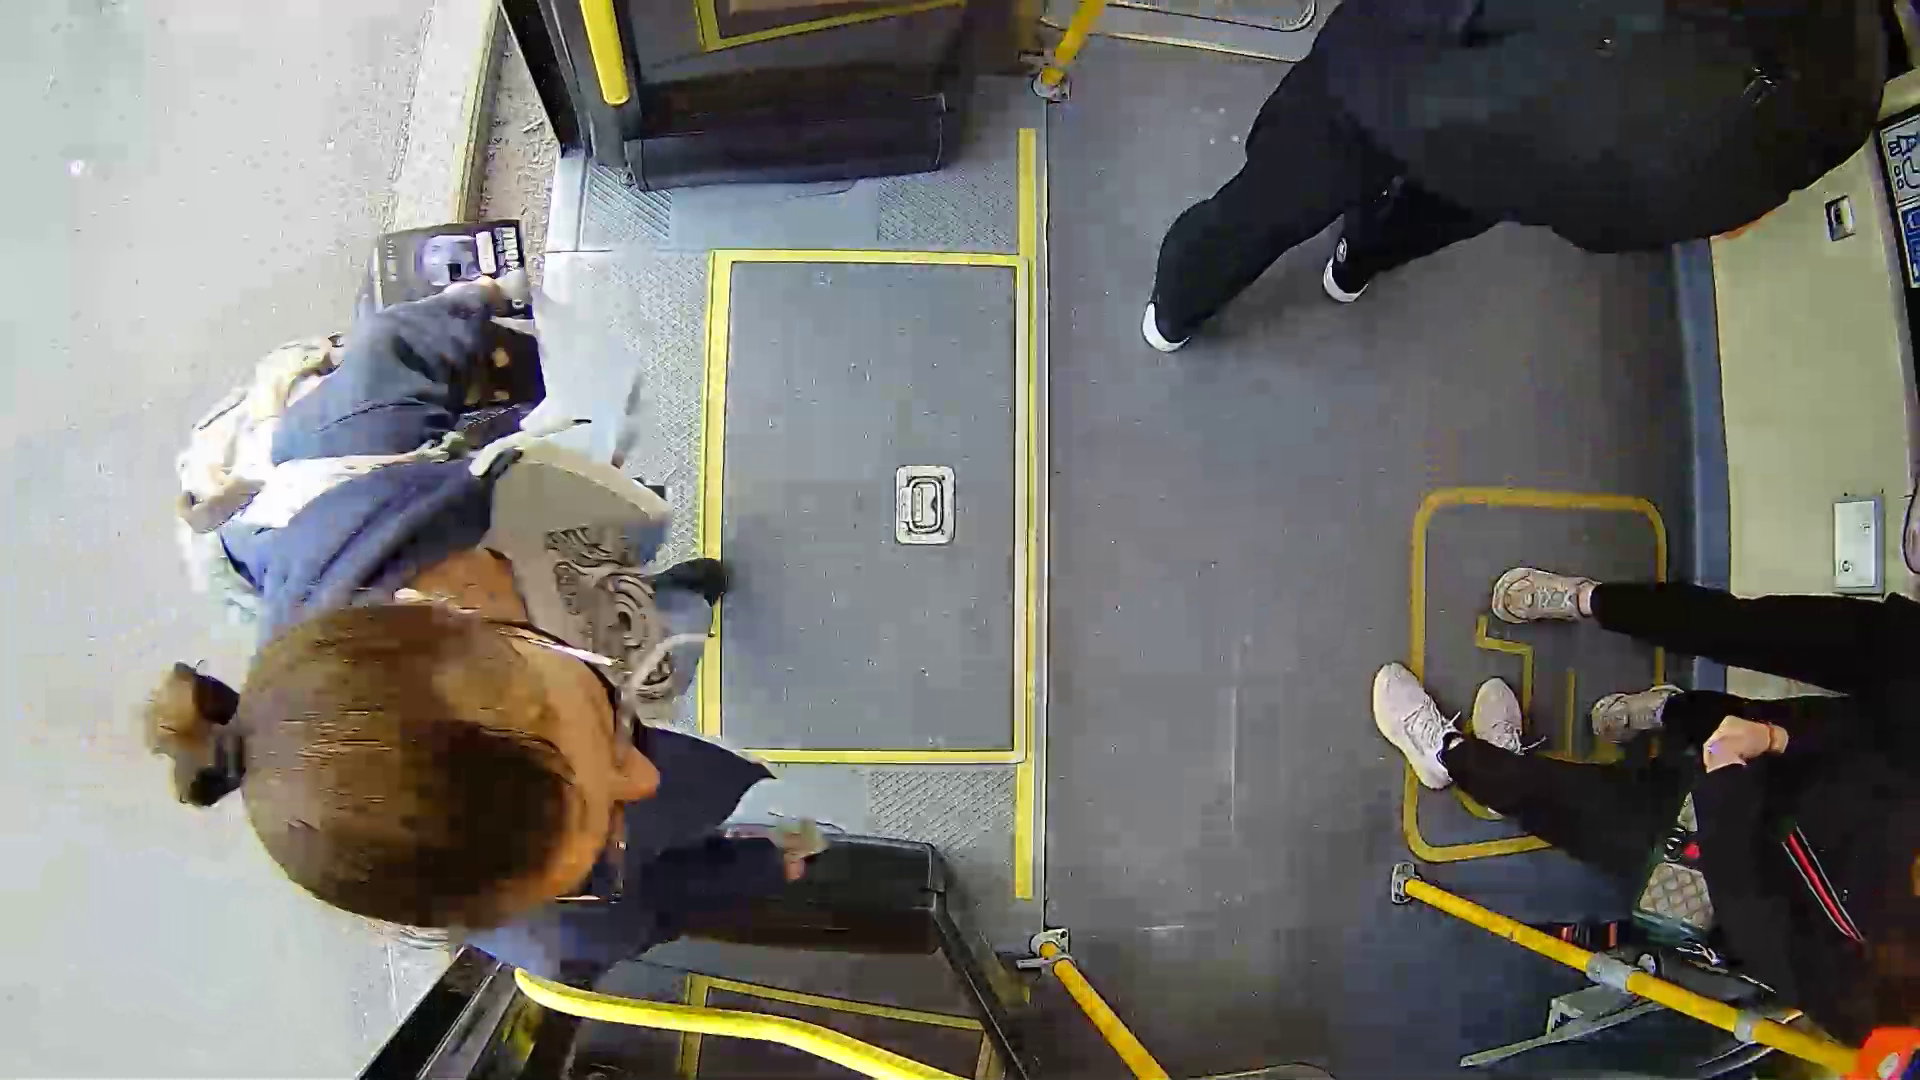person: (156, 246, 1015, 963)
